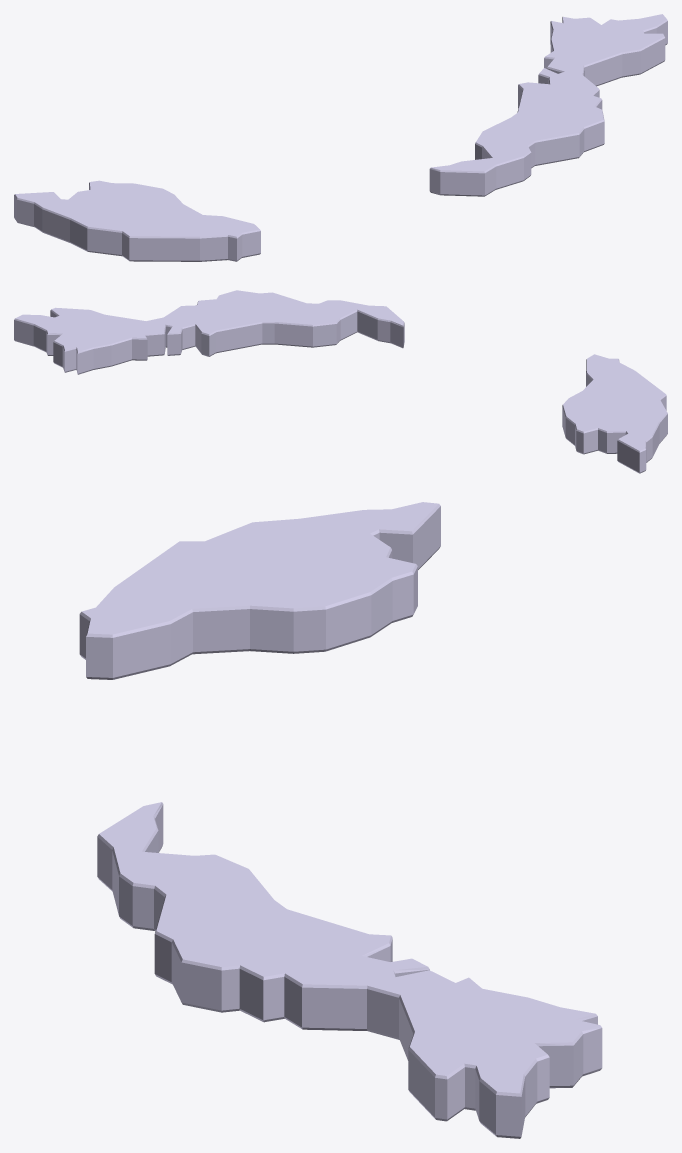
Rendered from MYS.glb.
The picture shows the model from 3 angles, top to bottom: view 1: azimuth 30°, elevation 25°; view 2: azimuth 150°, elevation 25°; view 3: azimuth 270°, elevation 25°; orthographic projection. The views are drawn at different scales.
Bounding box in the file's own units: 1.9 × 0.068 × 0.7093.
